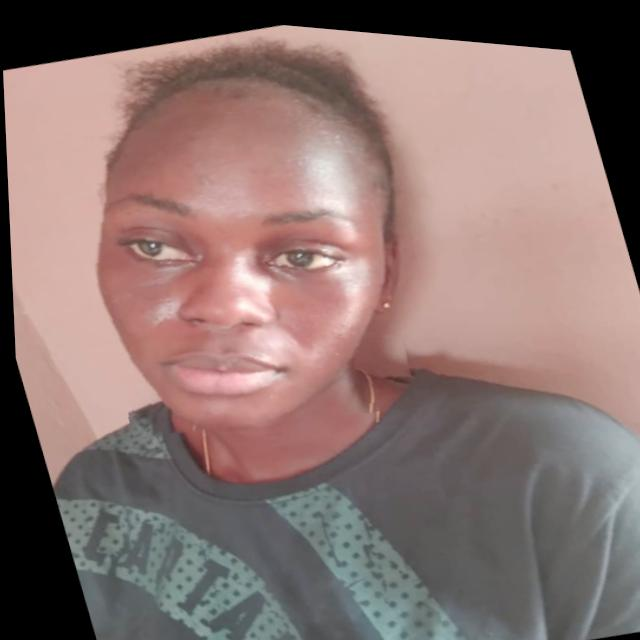sad: (39, 32, 429, 466)
